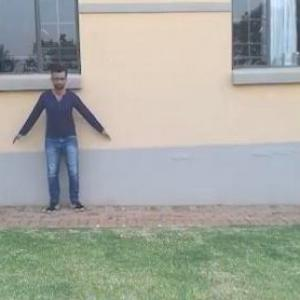land: (12, 66, 114, 222)
